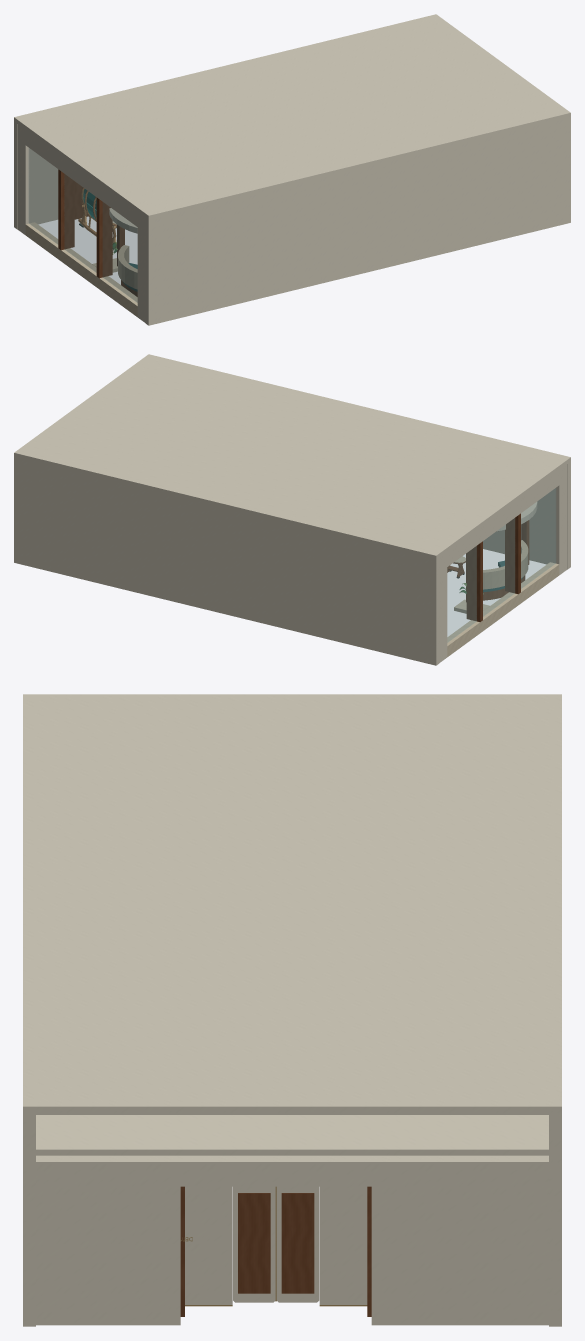
3 renders of one model, top to bottom at view 1: azimuth 30°, elevation 25°; view 2: azimuth 150°, elevation 25°; view 3: azimuth 270°, elevation 25°, orthographic. The views are drawn at different scales.
Visible parts, largest first — view 1: UpperPressureClosure, SouthAcousticWall, CourtSealedPane2, CourtSealedPane1, CourtSealedPane0, CourtSill, NorthAcousticWall, CourtHead, CourtWallNorth, CourtDeepMullion0, CourtDeepMullion1, CourtWallSouth (+1 smaller); view 2: UpperPressureClosure, NorthAcousticWall, CourtSealedPane2, CourtSealedPane1, CourtSealedPane0, CourtSill, SouthAcousticWall, CourtHead, CourtWallSouth, CourtDeepMullion0, CourtDeepMullion1, CourtWallNorth (+1 smaller); view 3: UpperPressureClosure, EntryForeReturn, EntryAftReturn, RisingLivingRoof, EntryHeader, PrivateEntry_01_ENTRY_PocketSkin_-1_1, PrivateEntry_01_ENTRY_PocketSkin_1_1, PrivateEntry_01_ENTRY_TimberInset_LEFT_1, PrivateEntry_01_ENTRY_TimberInset_RIGHT_1, NorthAcousticWall, SouthAcousticWall, PrivateEntry_01_ENTRY_MovingPanel_LEFT (+1 smaller).
Part boxes in pixels (bbox=[...]): UpperPressureClosure: bbox=[14, 14, 570, 219]; SouthAcousticWall: bbox=[145, 117, 570, 325]; CourtSealedPane2: bbox=[103, 202, 137, 302]; CourtSealedPane1: bbox=[64, 174, 96, 272]; CourtSealedPane0: bbox=[29, 148, 57, 244]; CourtSill: bbox=[25, 222, 137, 316]; NorthAcousticWall: bbox=[14, 121, 58, 229]; CourtHead: bbox=[25, 130, 137, 226]; CourtWallNorth: bbox=[17, 124, 34, 234]; CourtDeepMullion0: bbox=[58, 169, 74, 250]; CourtDeepMullion1: bbox=[96, 197, 112, 278]; CourtWallSouth: bbox=[137, 212, 145, 322]; UpperPressureClosure: bbox=[14, 354, 570, 559]; NorthAcousticWall: bbox=[14, 457, 439, 665]; CourtSealedPane2: bbox=[521, 488, 555, 588]; CourtSealedPane1: bbox=[483, 518, 514, 616]; CourtSealedPane0: bbox=[447, 546, 476, 642]; CourtSill: bbox=[447, 562, 559, 656]; SouthAcousticWall: bbox=[483, 461, 570, 569]; CourtHead: bbox=[447, 470, 559, 566]; CourtWallSouth: bbox=[550, 464, 567, 574]; CourtDeepMullion0: bbox=[466, 541, 482, 621]; CourtDeepMullion1: bbox=[505, 513, 520, 594]; CourtWallNorth: bbox=[439, 552, 447, 662]; UpperPressureClosure: bbox=[23, 694, 561, 1114]; EntryForeReturn: bbox=[371, 1155, 548, 1325]; EntryAftReturn: bbox=[36, 1155, 180, 1325]; RisingLivingRoof: bbox=[36, 1115, 548, 1155]; EntryHeader: bbox=[180, 1155, 371, 1186]; PrivateEntry_01_ENTRY_PocketSkin_-1_1: bbox=[319, 1186, 367, 1304]; PrivateEntry_01_ENTRY_PocketSkin_1_1: bbox=[185, 1186, 232, 1304]; PrivateEntry_01_ENTRY_TimberInset_LEFT_1: bbox=[281, 1193, 314, 1293]; PrivateEntry_01_ENTRY_TimberInset_RIGHT_1: bbox=[238, 1193, 270, 1293]; NorthAcousticWall: bbox=[549, 1115, 561, 1326]; SouthAcousticWall: bbox=[23, 1115, 35, 1326]; PrivateEntry_01_ENTRY_MovingPanel_LEFT: bbox=[276, 1186, 319, 1302].
Bounding box in the file's own units: 17.88 × 4.45 × 9.88.
Materials: 195 (152 with a texture image).
